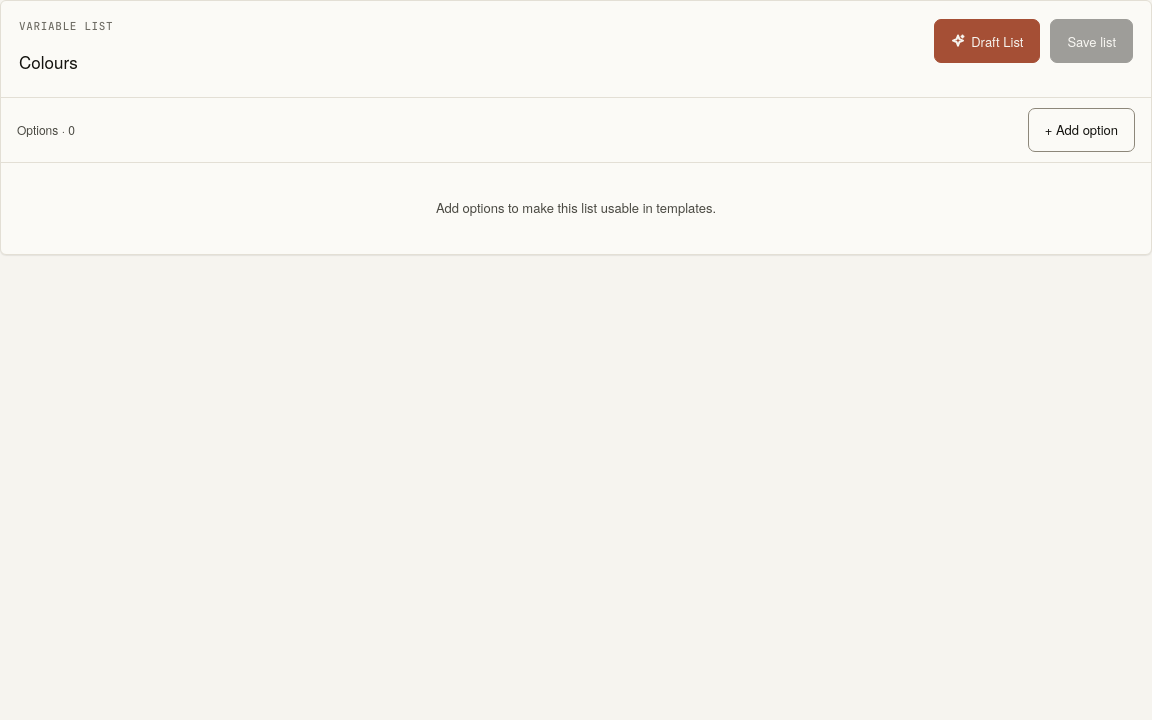
ListEditor — AI Draft List › seed description failure keeps the dialog mounted with an inline error
The image size is (1152, 720).
Click the button "Draft List".
click(987, 41)  # box [934,19,1040,63]
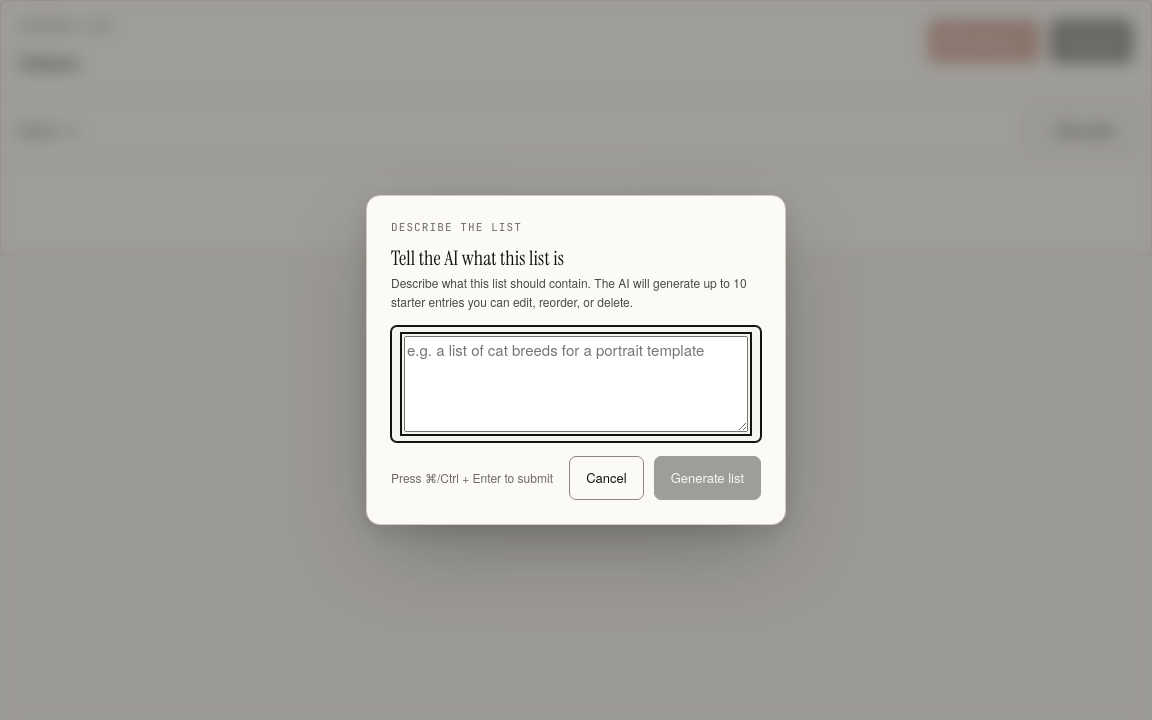
Type "paint colours" into the text box named "list description".
click(576, 384); type("paint colours")  # box [404,336,748,432]
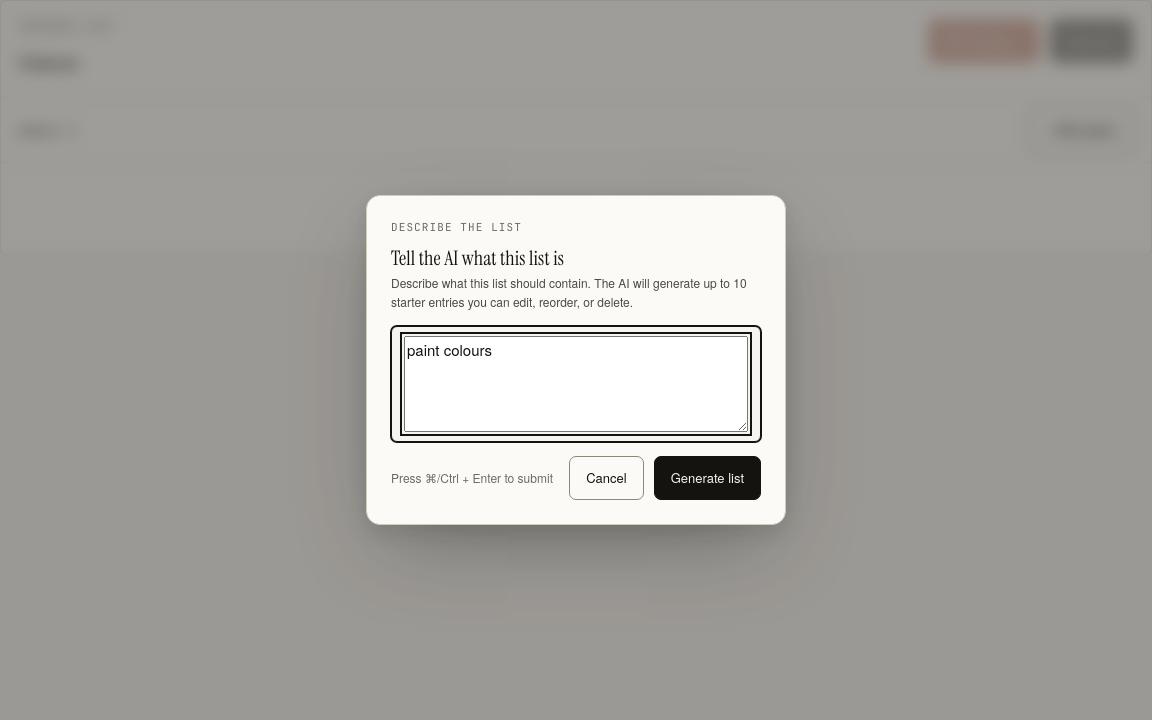
Click the button "Generate list".
click(707, 478)  # box [654,456,761,500]
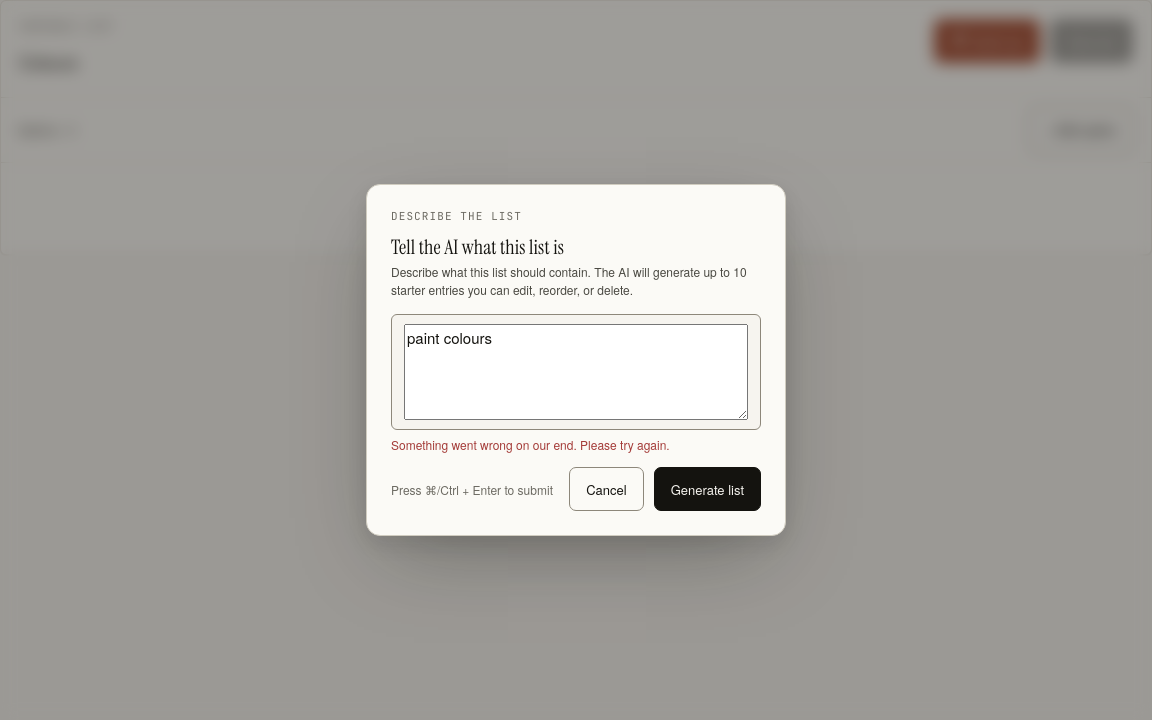
Expected: the dialog is shown
Expected: the message reads "Something went wrong on our end. Please try again.", [391,436,670,453]
